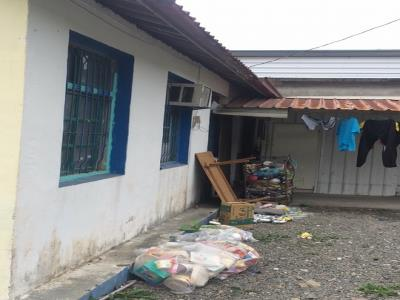box: (216, 199, 256, 231)
plastic_bag: (137, 230, 263, 294)
